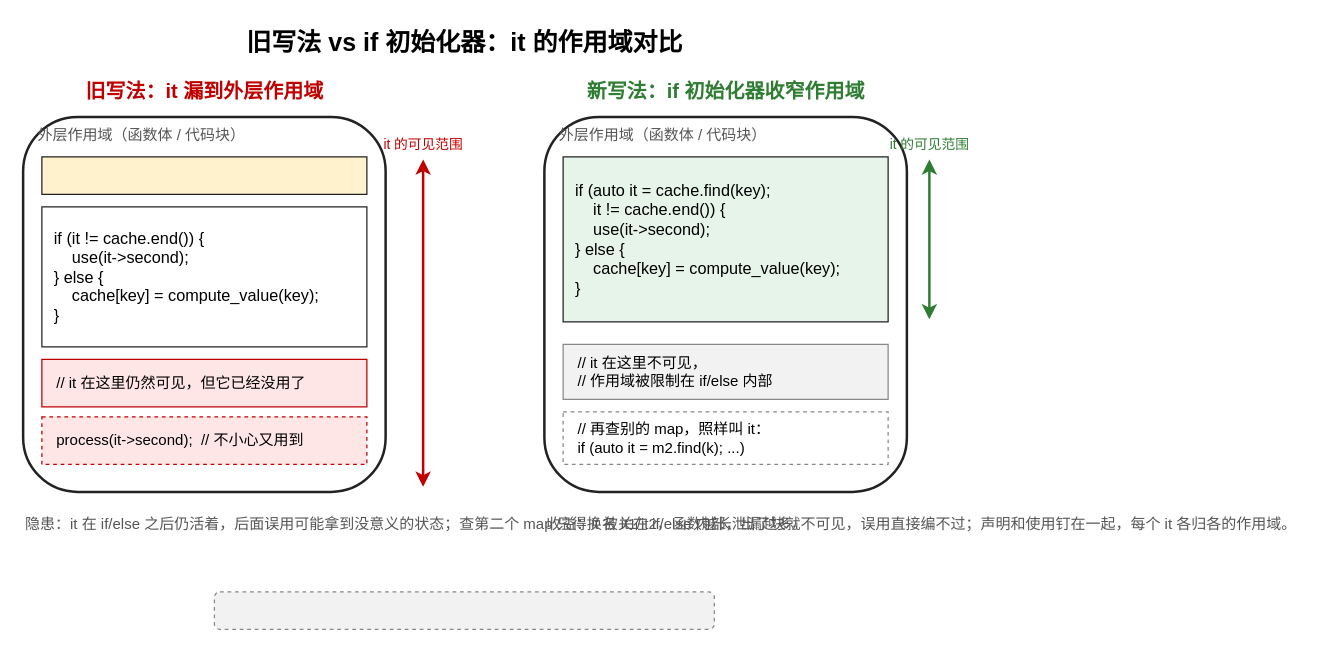
Some shapes in this 1318 by 651 pixel diagram are drawn without their labels. The centre of each missing label's shape, as x and y in pixels:
auto it = cache.find(key);: [204,175]
一般形式：if (init-statement; condition)，分号前声明，分号后判断，变量只活在 if/else 内: [463,610]
